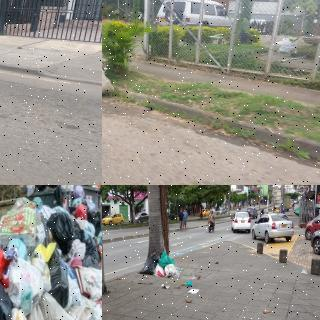Garbage: (46, 210, 75, 253), (0, 278, 14, 320), (102, 59, 116, 95), (138, 253, 159, 275), (158, 251, 176, 267), (152, 263, 165, 277), (165, 263, 177, 276)
